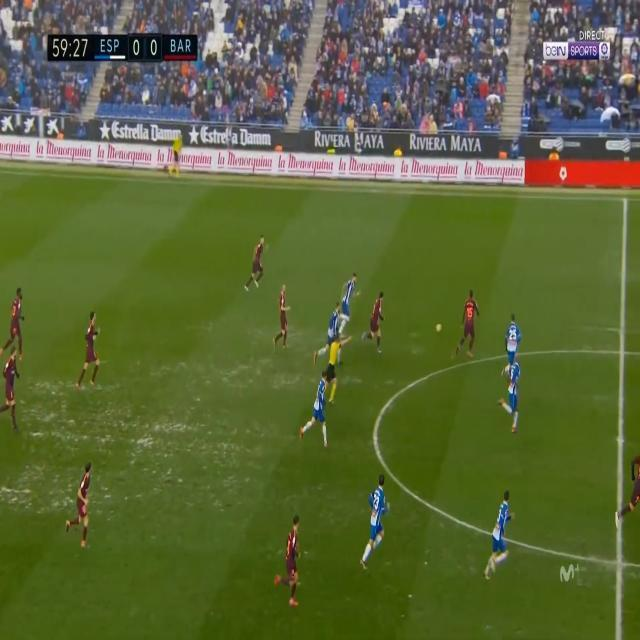ball: (436, 319, 444, 339)
player: (61, 450, 105, 564), (358, 464, 391, 582), (272, 505, 307, 613), (485, 487, 519, 590), (298, 368, 334, 451), (1, 281, 31, 370), (357, 287, 392, 360), (498, 355, 528, 436), (78, 300, 103, 396), (0, 339, 22, 446), (456, 287, 483, 363), (313, 300, 344, 363), (245, 231, 270, 303), (499, 309, 522, 384), (340, 264, 363, 337), (272, 280, 294, 356)
referee: (318, 329, 347, 417), (165, 129, 189, 184)
